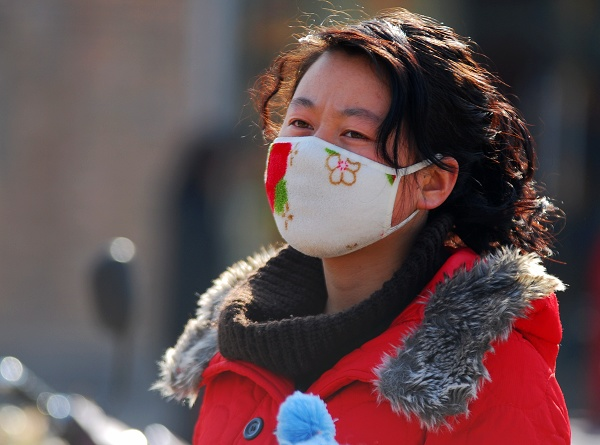face_mask: (267, 52, 408, 232)
